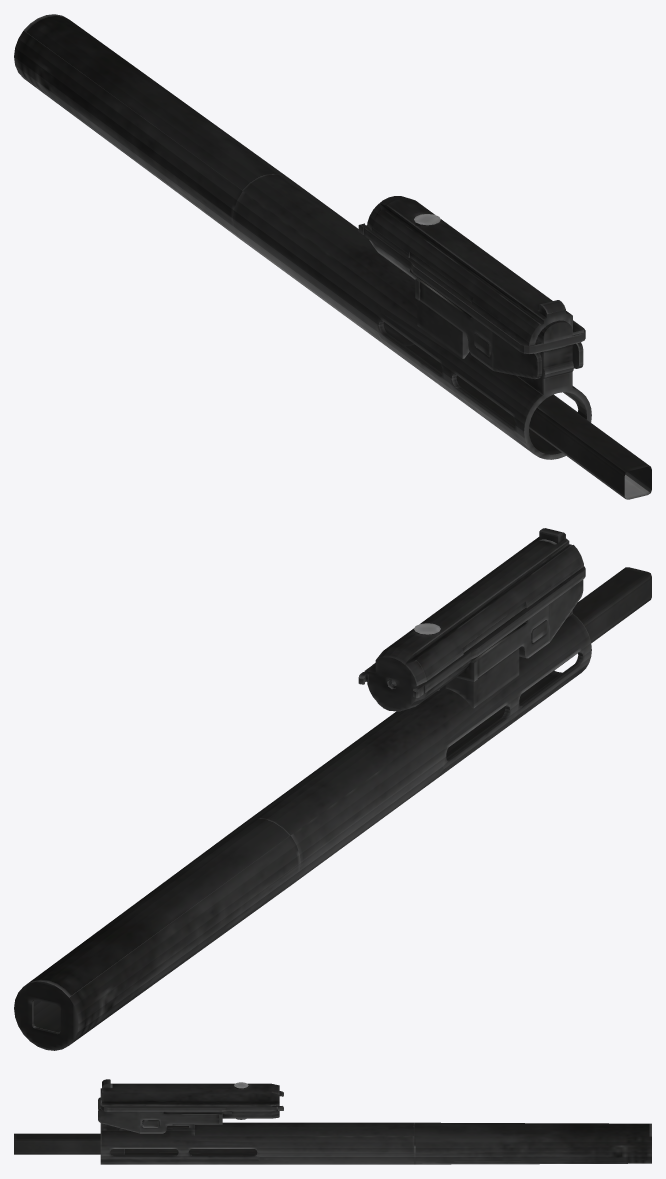
The picture shows the model from 3 angles, top to bottom: view 1: azimuth 30°, elevation 25°; view 2: azimuth 150°, elevation 25°; view 3: azimuth 270°, elevation 25°; orthographic projection. The views are drawn at different scales.
Visible parts, largest first — view 1: TW_67124dcfa3541f2a1f0e788b_PZ_Import; view 2: TW_67124dcfa3541f2a1f0e788b_PZ_Import; view 3: TW_67124dcfa3541f2a1f0e788b_PZ_Import.
Part boxes in pixels (box(x1,y1,x2,y2)): TW_67124dcfa3541f2a1f0e788b_PZ_Import: box(14, 14, 651, 499); TW_67124dcfa3541f2a1f0e788b_PZ_Import: box(14, 528, 651, 1050); TW_67124dcfa3541f2a1f0e788b_PZ_Import: box(14, 1079, 651, 1164).
Size of the model in its own units: 0.0163 by 0.2459 by 0.0345.
1 material, 1 textured.
